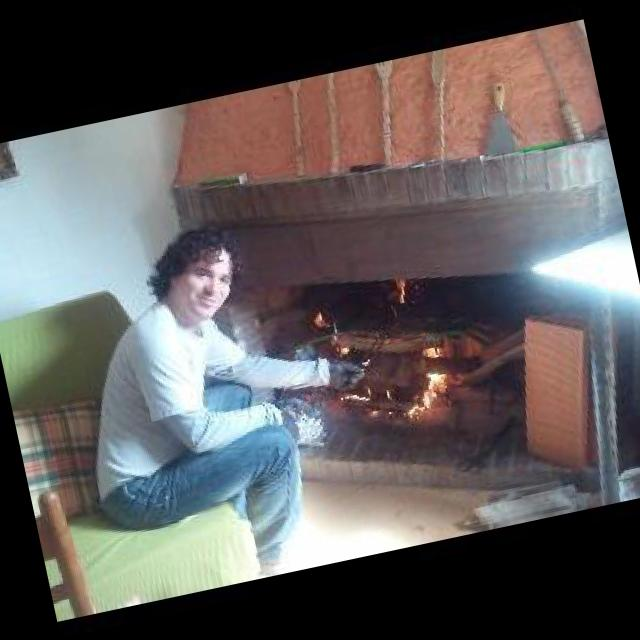Fire: (392, 340, 472, 414)
